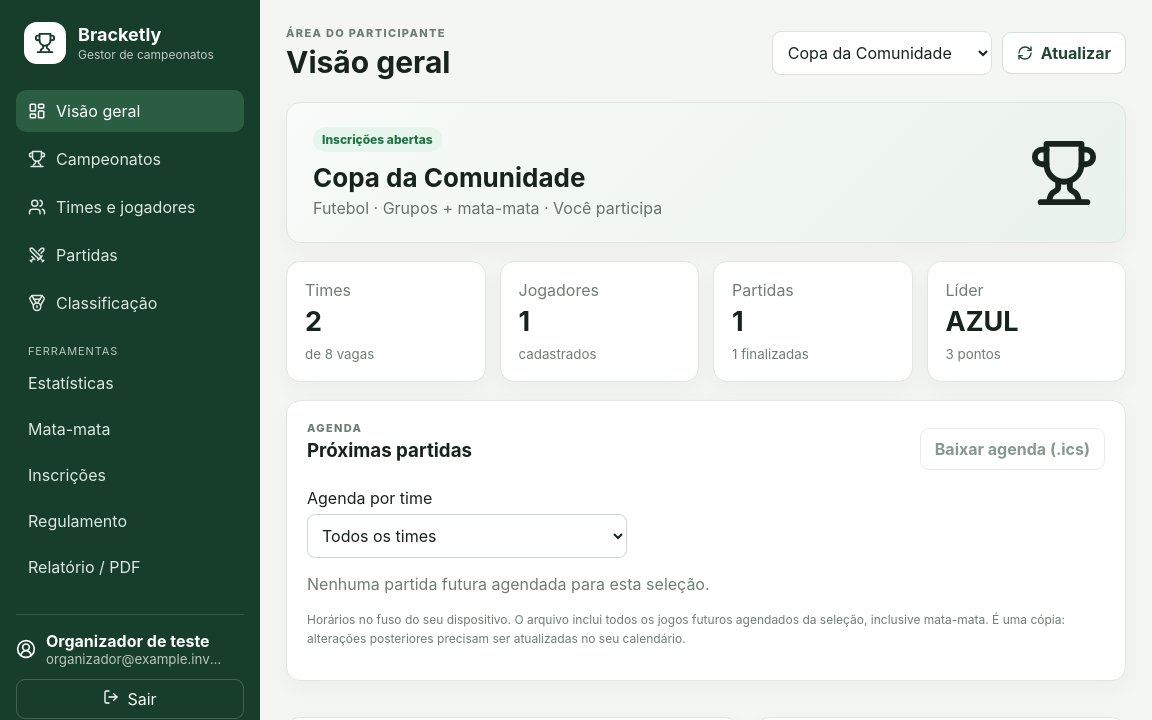
direciona à inscrição quando aprovação é obrigatória
Expected: the heading "Copa da Comunidade" is shown, left=313, top=162, right=585, bottom=193
Click the button "Times e jogadores". click: (130,207)
box: left=16, top=186, right=244, bottom=228
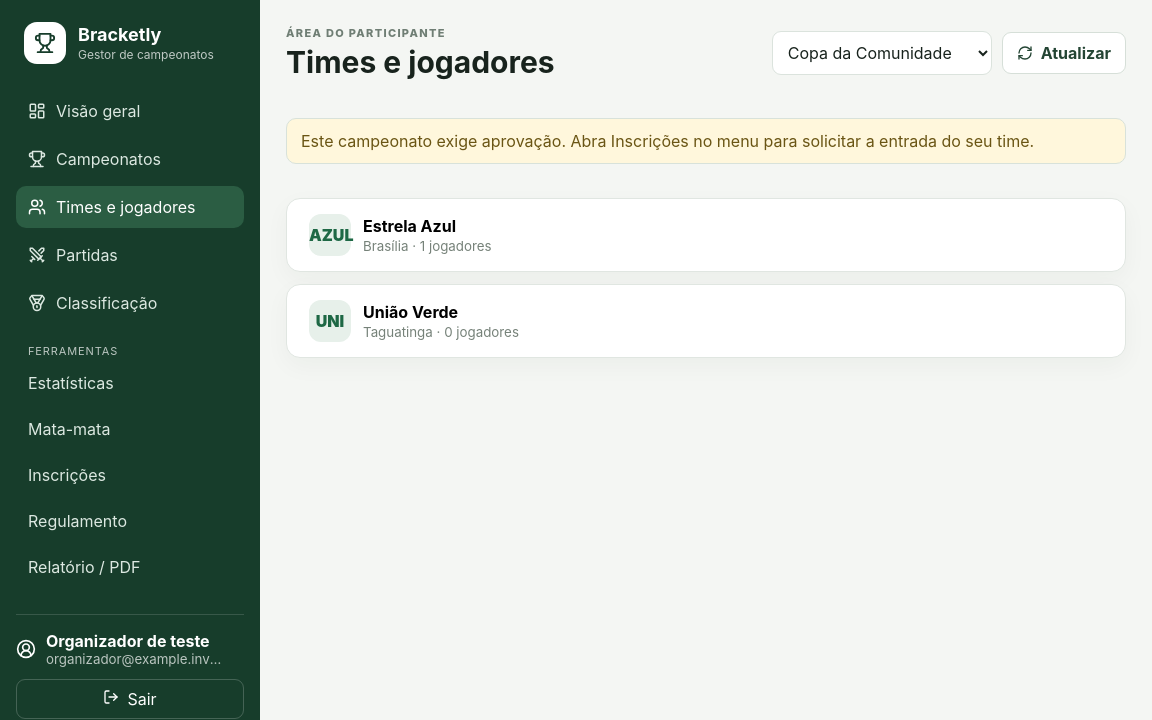
Expected: the text "Este campeonato exige aprovação" is shown, left=301, top=131, right=1034, bottom=151
Click the button "Inscrições". click: (130,475)
box: left=16, top=454, right=244, bottom=496
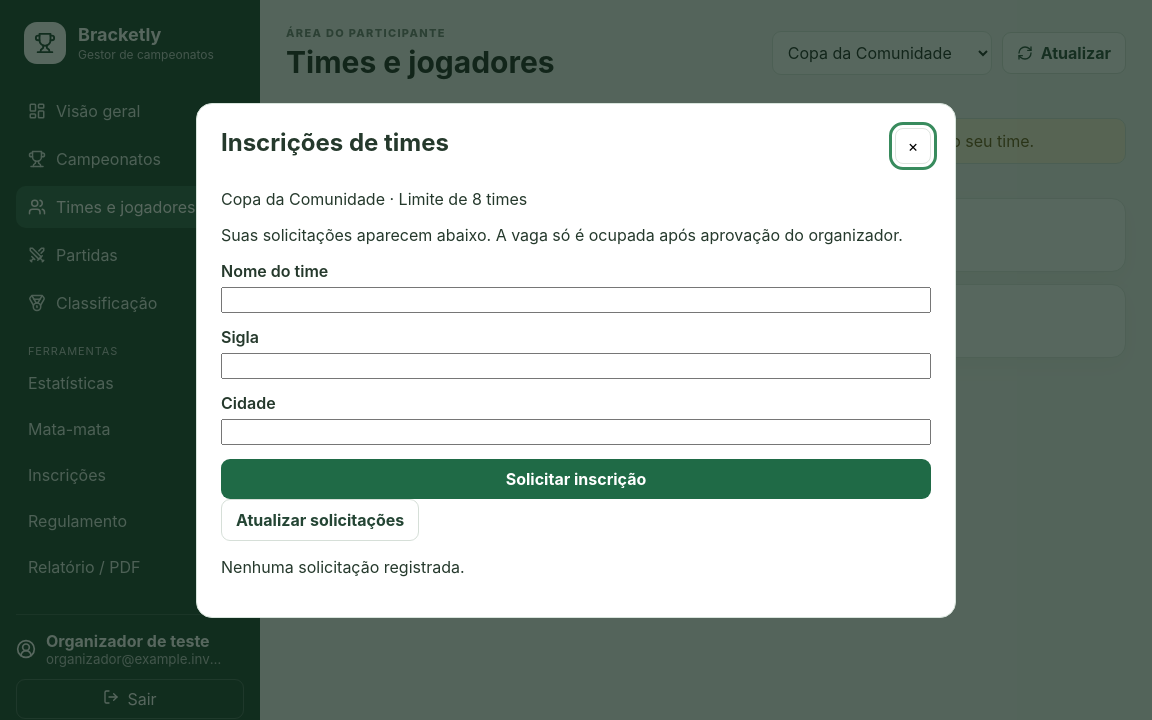
Expected: the button "Solicitar inscrição" is shown, left=221, top=458, right=931, bottom=498
